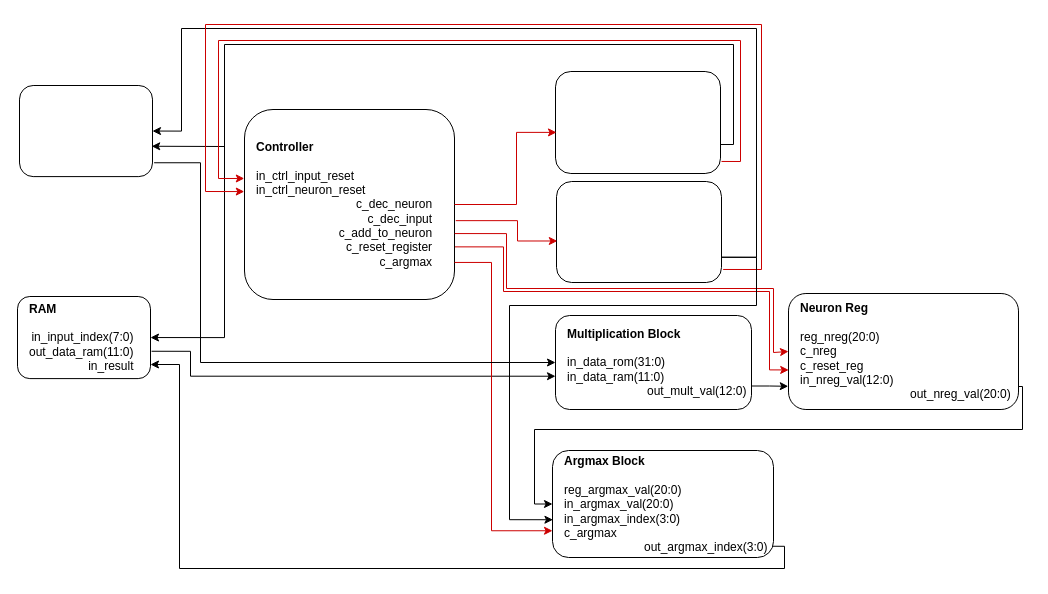
The diagram is 1048 pixels wide and 594 high, and some of its shapes have lost their labels. Here are the shapes that lost their labels. From the top down, the box of each, then its label:
(18, 84, 152, 177): ROM in_neuron_index(3:0) in_input_index(7:0) out_data_rom(31:0)
(554, 70, 720, 174): InputDecrementer count(8:0) c_input_dec out_input_index (7:0) out_input_reset
(556, 180, 722, 282): NeuronDecrementer count(4:0) c_neuron_dec out_neuron_index(3:0) out_neuron_reset
